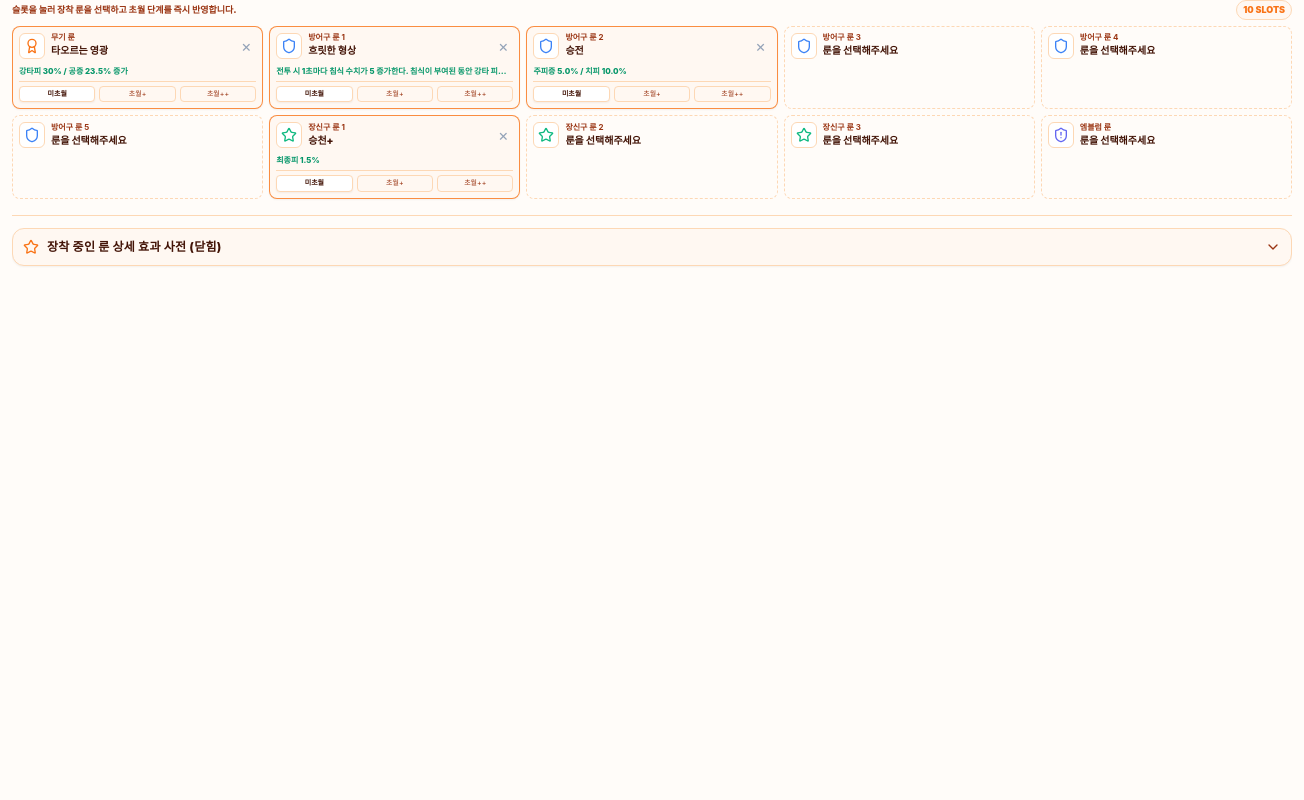
Test: RuneSelector cleaned description rendering › uses the same normalized text in the equipped-rune detail dictionary
This screenshot has width=1304, height=800.
Click the button "장착 중인 룬 상세 효과 사전 (닫힘)" at (118, 246), box x1=12 y1=228 x2=1292 y2=266
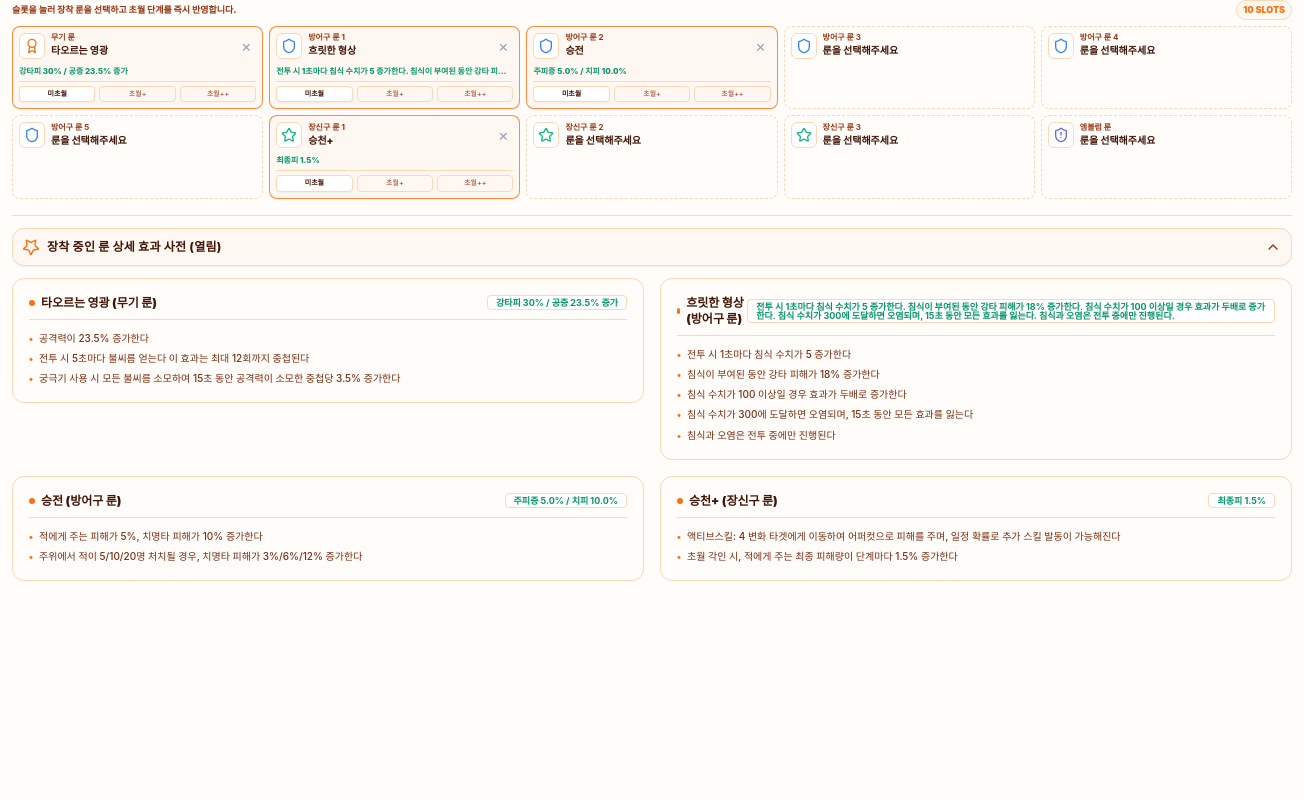
Now the text "공격력이 23.5% 증가한다" is shown, box x1=39 y1=330 x2=149 y2=346
Now the text "전투 시 5초마다 불씨름 얻는다 이 효과는 최대 12회까지 중첩된다" is shown, box x1=39 y1=350 x2=309 y2=366
Now the text "주위에서 적이 5/10/20명 처치될 경우, 치명타 피해가 3%/6%/12% 증가한다" is shown, box x1=39 y1=548 x2=362 y2=564
